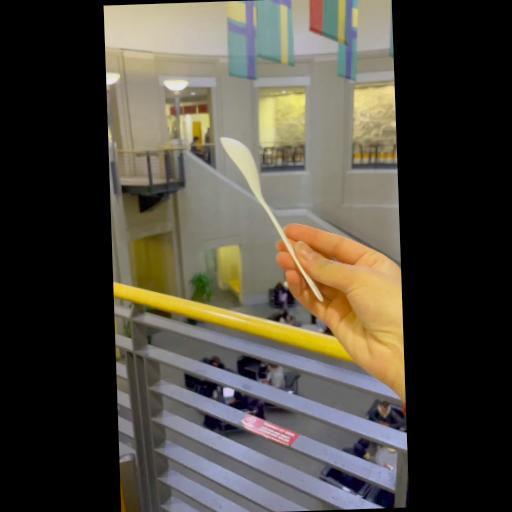utensil: (216, 131, 326, 308)
